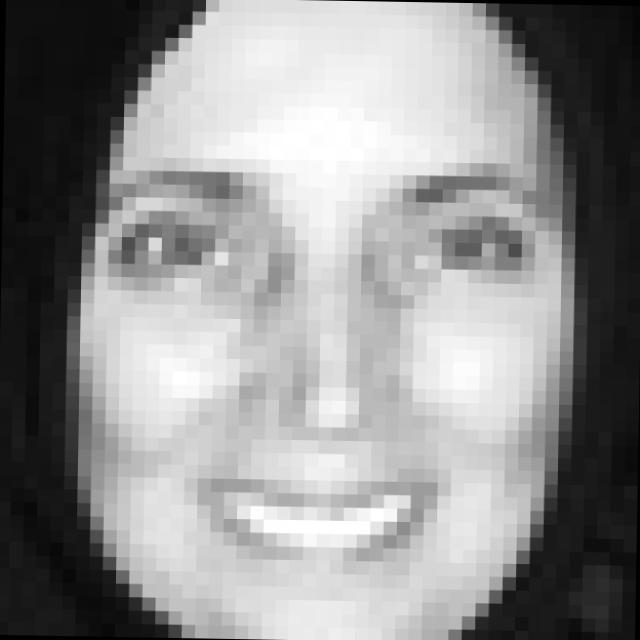happy: (89, 148, 566, 594)
